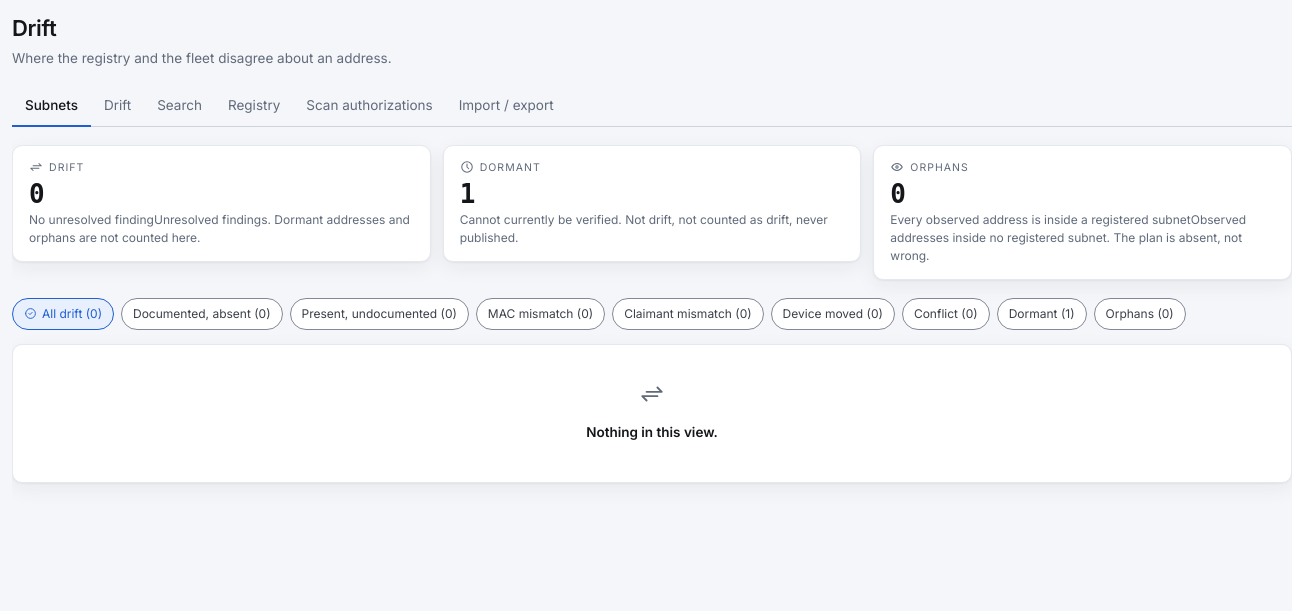
Test case: the drift page › puts dormant behind its own tab, with the sentence that says it is not a problem
Step 1. Click the button "Dormant (1)" → (1042, 314), box [997,298,1086,330]
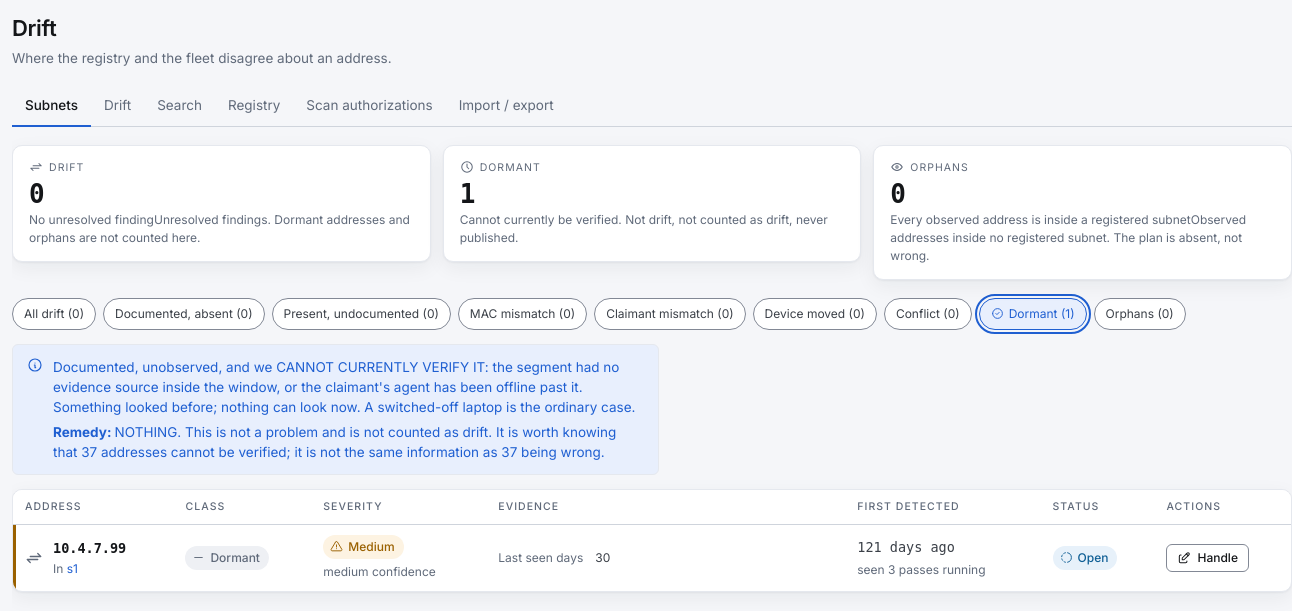
Result: the text "10.4.7.99" is shown at [53,538,126,558]
Result: the text "switched-off laptop" is shown at [53,359,635,415]
